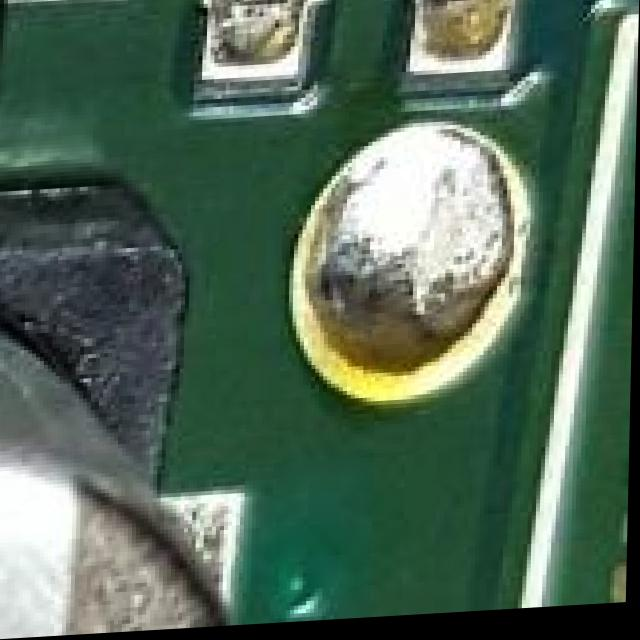capacitor: (0, 217, 312, 640)
transistor: (223, 0, 584, 62), (0, 0, 100, 152)
